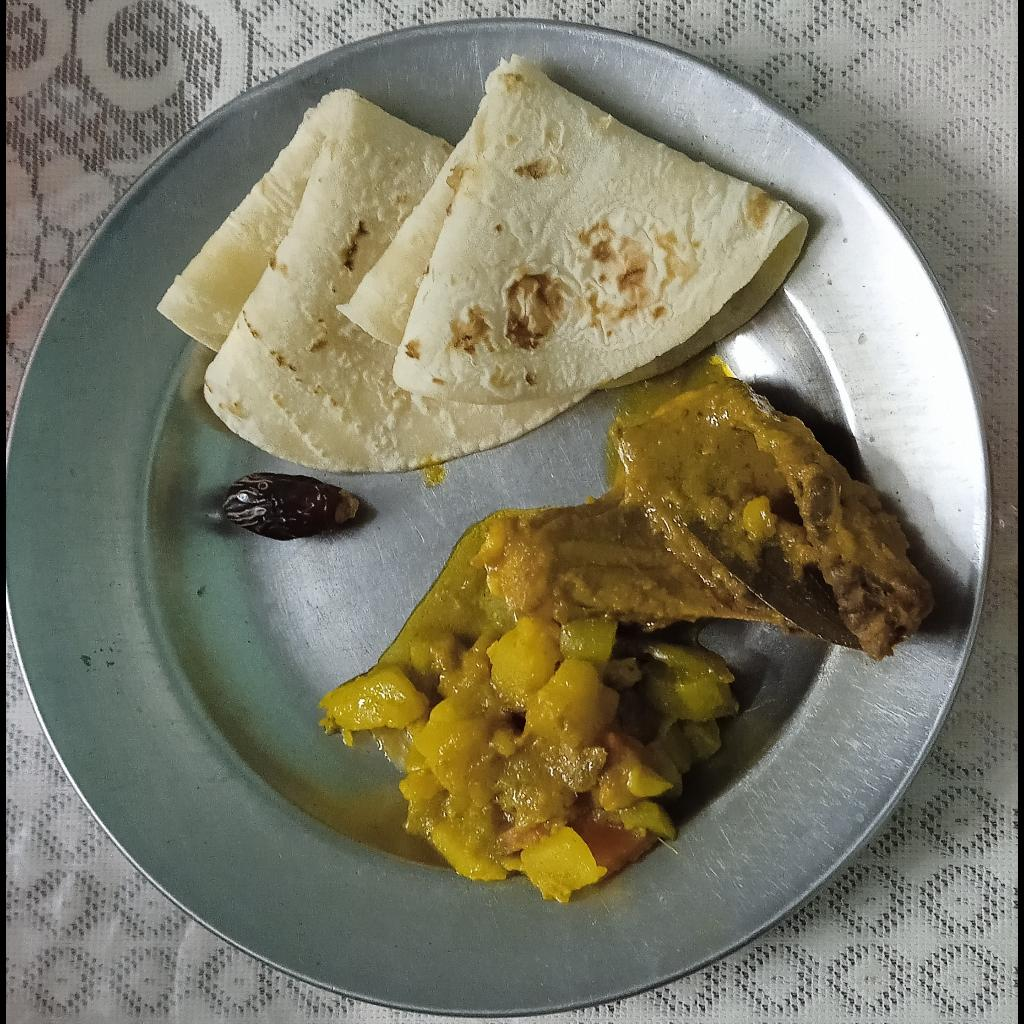chicken: (473, 381, 938, 661)
dates: (222, 472, 359, 542)
ruti: (158, 58, 809, 474)
vegetable: (319, 617, 740, 904)
